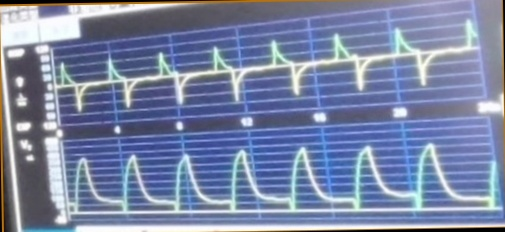Flow: (56, 24, 476, 112)
Leakage Volume: (68, 141, 499, 223)
